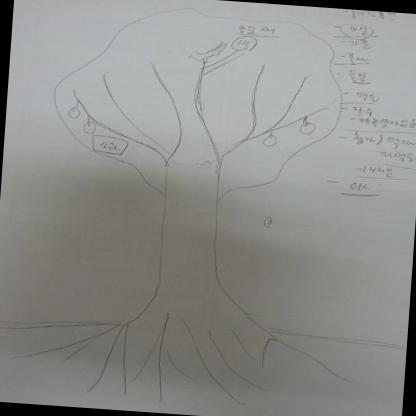apple: (64, 100, 82, 120), (298, 117, 315, 135), (80, 116, 96, 134), (264, 132, 278, 147)
bird: (187, 38, 225, 64)
branch_line: (69, 52, 340, 182)
crown_mushroom: (46, 0, 348, 210)
root_upside: (6, 292, 361, 414)
trunk_straight: (155, 204, 238, 294)
